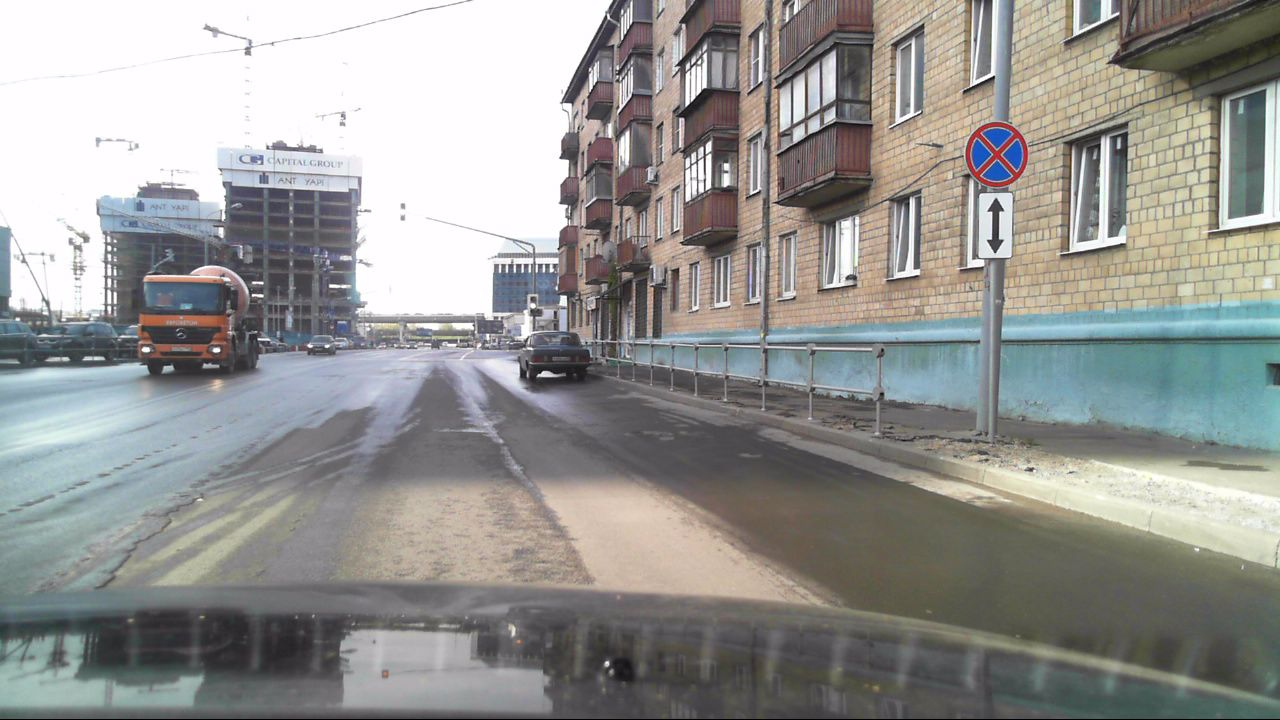No Parking: (961, 118, 1030, 191)
